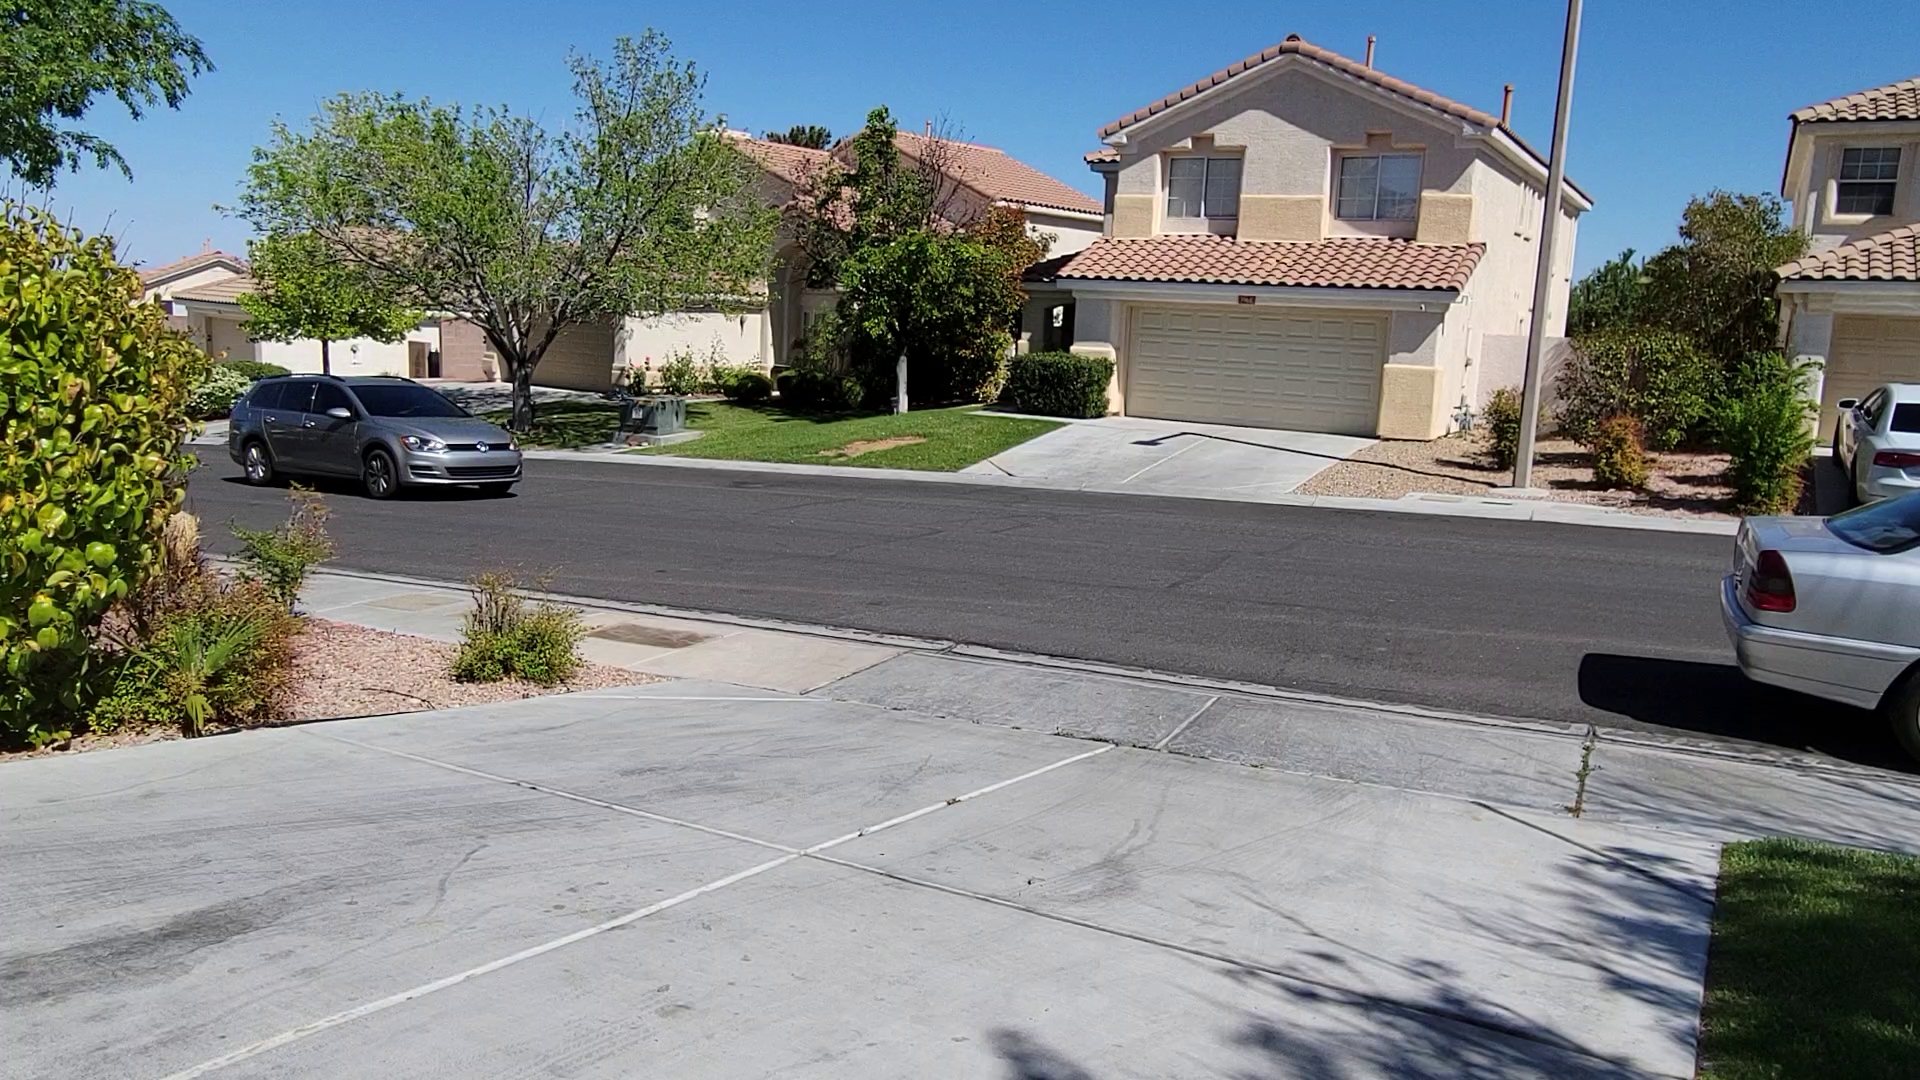car: (223, 371, 525, 501)
